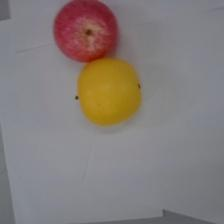red: (53, 0, 119, 62)
yellow: (76, 57, 142, 125)
